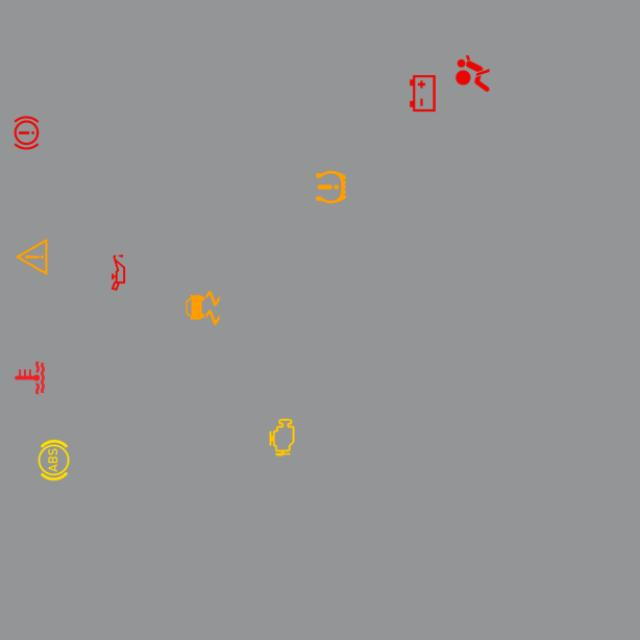Anti Lock Braking System: (31, 438, 76, 482)
Braking System Issue: (4, 110, 49, 156)
Charging System Issue: (400, 71, 445, 116)
Check Engine: (260, 415, 304, 460)
Electronic Stability Problem -ESP-: (180, 286, 225, 330)
Engine Overheating Warning Light: (7, 356, 52, 400)
Low Engine Oil Warning Light: (96, 250, 141, 295)
Low Tire Pressure Warning Light: (308, 164, 354, 210)
Master warning light: (10, 234, 54, 280)
SRS-Airbag: (450, 51, 495, 96)
